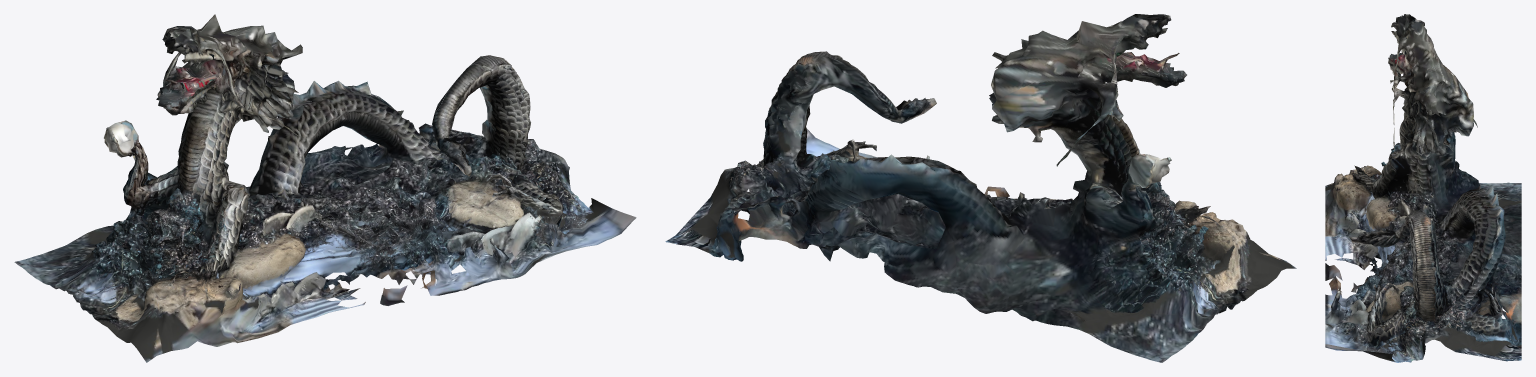
Rendered from takefu-shoryu.glb.
3 renders of one model, left to right at view 1: azimuth 30°, elevation 25°; view 2: azimuth 150°, elevation 25°; view 3: azimuth 270°, elevation 25°, orthographic. The views are drawn at different scales.
Parts seen in each view (by area): view 1: baked_mesh; view 2: baked_mesh; view 3: baked_mesh.
Part boxes in pixels (<box>): baked_mesh: <box>14,14,636,362</box>; baked_mesh: <box>665,14,1296,362</box>; baked_mesh: <box>1325,14,1521,362</box>.
Size of the model in its own units: 3.85 by 2.06 by 1.8.
Materials: 1 (1 with a texture image).
